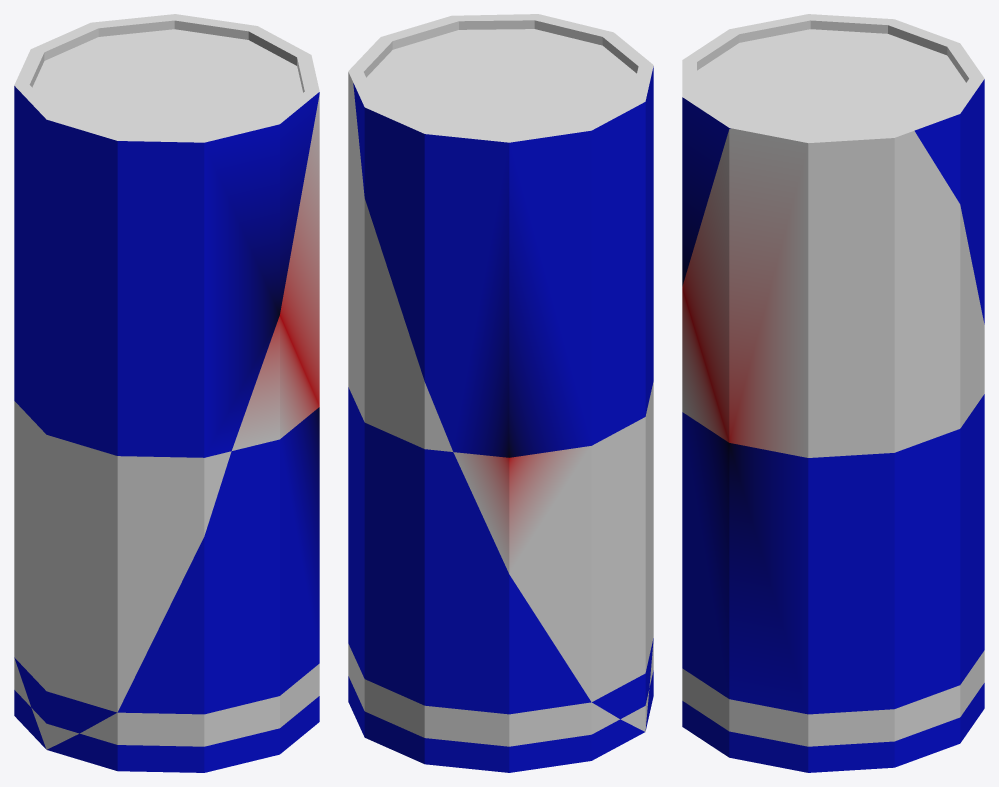
Rendered from redbull.glb.
The picture shows the model from 3 angles, left to right: view 1: azimuth 30°, elevation 25°; view 2: azimuth 150°, elevation 25°; view 3: azimuth 270°, elevation 25°; orthographic projection.
Parts seen in each view (by area): view 1: Cylinder; view 2: Cylinder; view 3: Cylinder.
Part boxes in pixels (x1,y1,x2,y2): Cylinder: (14,14,319,772); Cylinder: (348,14,653,772); Cylinder: (682,14,984,772).
Bounding box in the file's own units: 0.2376 × 0.54 × 0.2351.
